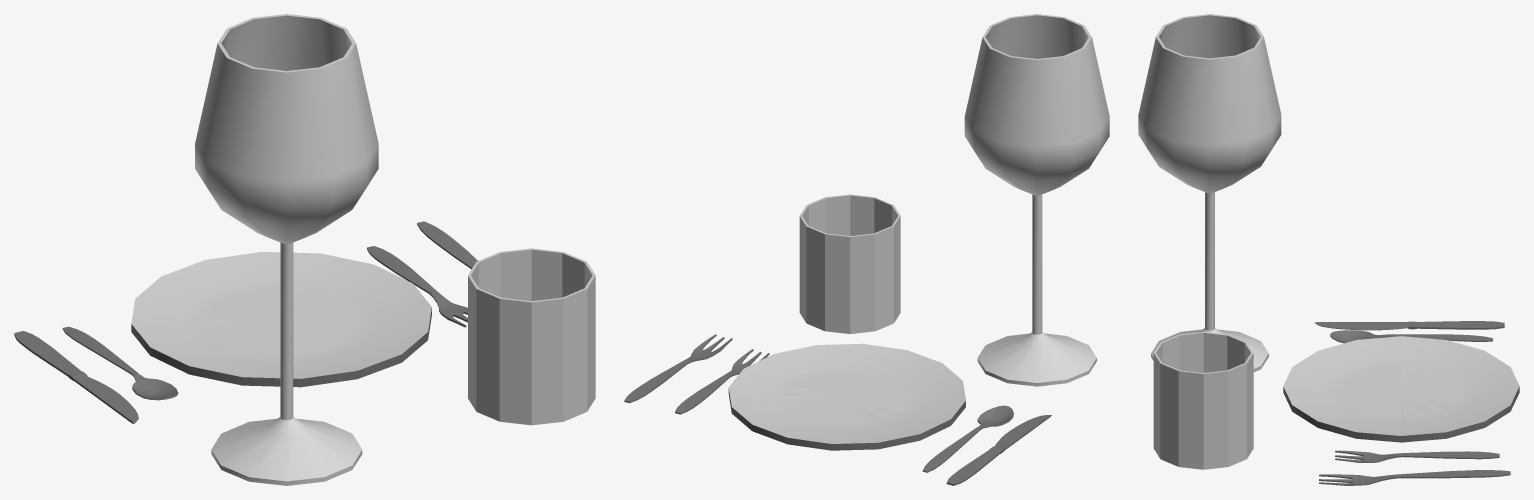
Rendered from Cutlery.fbx.
The picture shows the model from 3 angles, left to right: view 1: azimuth 30°, elevation 25°; view 2: azimuth 150°, elevation 25°; view 3: azimuth 270°, elevation 25°; orthographic projection. The views are drawn at different scales.
Visible parts, largest first — view 1: MedievalDiningRoom_FinalScene2:M_Plate_MedievalDiningRoom_Fi; view 2: MedievalDiningRoom_FinalScene2:M_Plate_MedievalDiningRoom_Fi; view 3: MedievalDiningRoom_FinalScene2:M_Plate_MedievalDiningRoom_Fi.
Boxes of the visible parts, x1=… form: MedievalDiningRoom_FinalScene2:M_Plate_MedievalDiningRoom_Fi: x1=14, y1=14, x2=595, y2=485; MedievalDiningRoom_FinalScene2:M_Plate_MedievalDiningRoom_Fi: x1=624, y1=14, x2=1109, y2=485; MedievalDiningRoom_FinalScene2:M_Plate_MedievalDiningRoom_Fi: x1=1138, y1=14, x2=1519, y2=485.
Bounding box in the file's own units: 8.51 × 7.82 × 8.42.
1 material, 1 textured.
